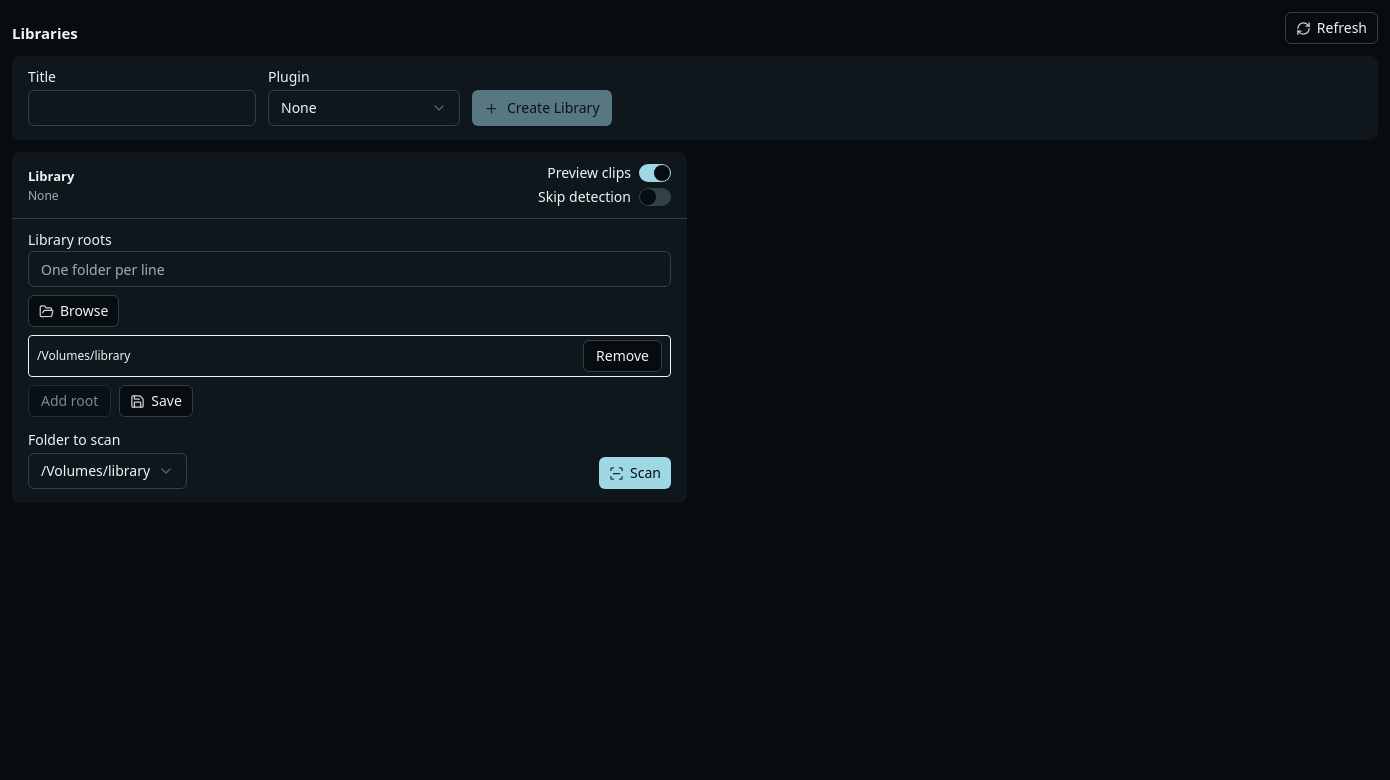
Test case: Console Libraries scan › offers only the Library roots and descendants
This screenshot has width=1390, height=780.
Click the dropdown named "Folder to scan".
click(108, 471)  # box [28,453,187,489]
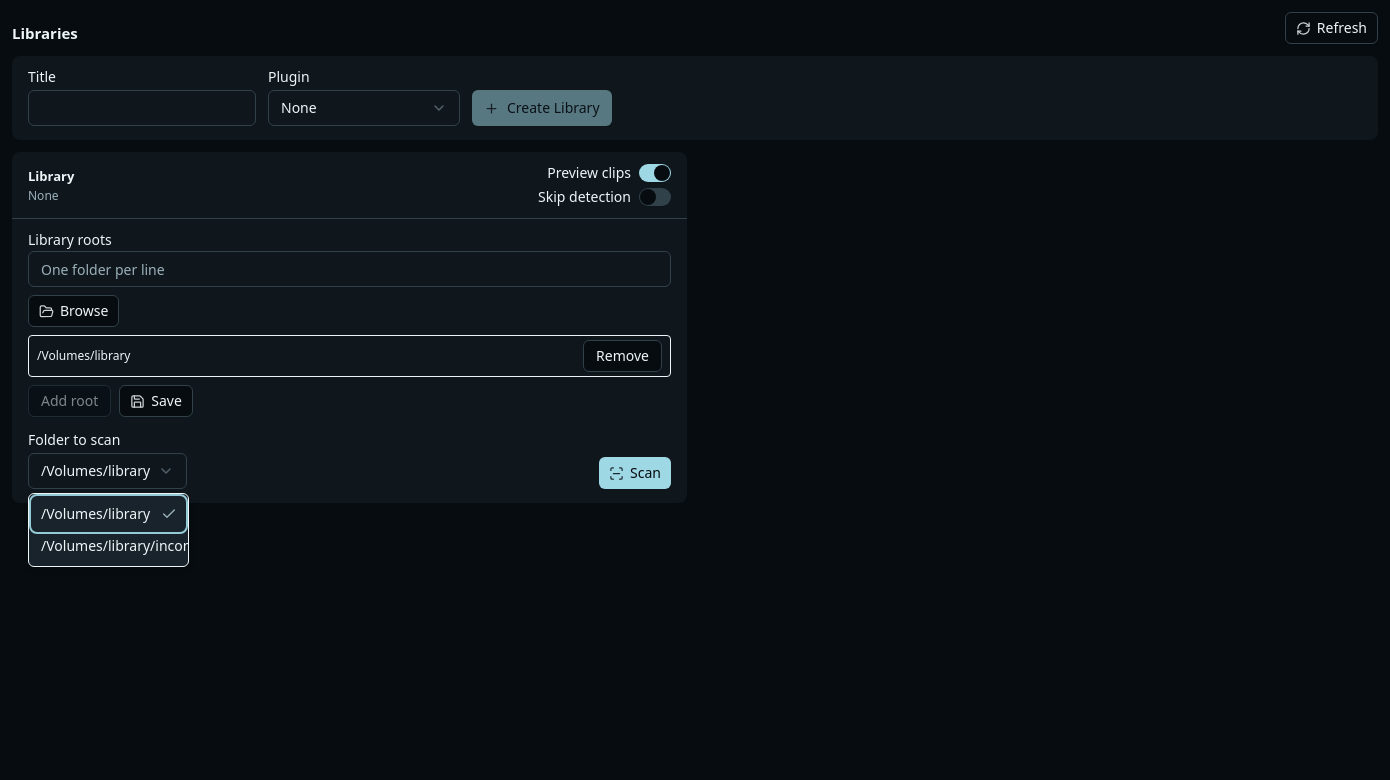
Expected: the option "/Volumes/library" is shown, [33,498,184,530]
Expected: the option "/Volumes/library/incoming" is shown, [41,536,189,555]
